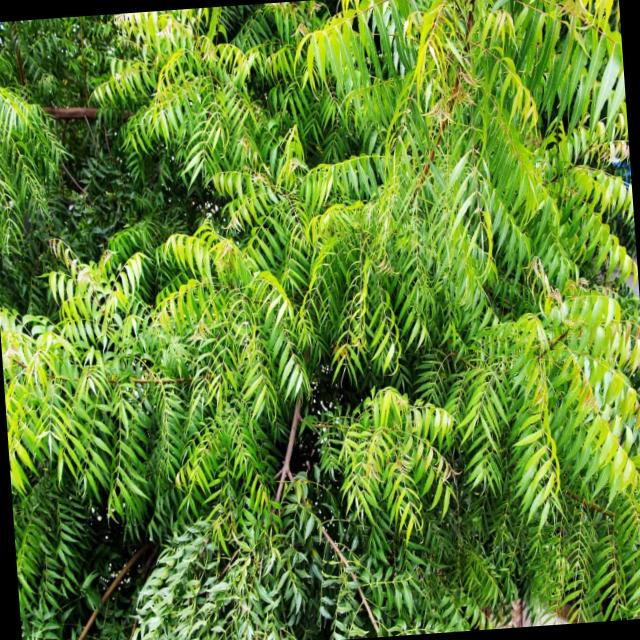Medicinal-Neem: (19, 218, 323, 545), (296, 0, 622, 187), (461, 270, 640, 535), (108, 3, 280, 204), (322, 376, 476, 560)
